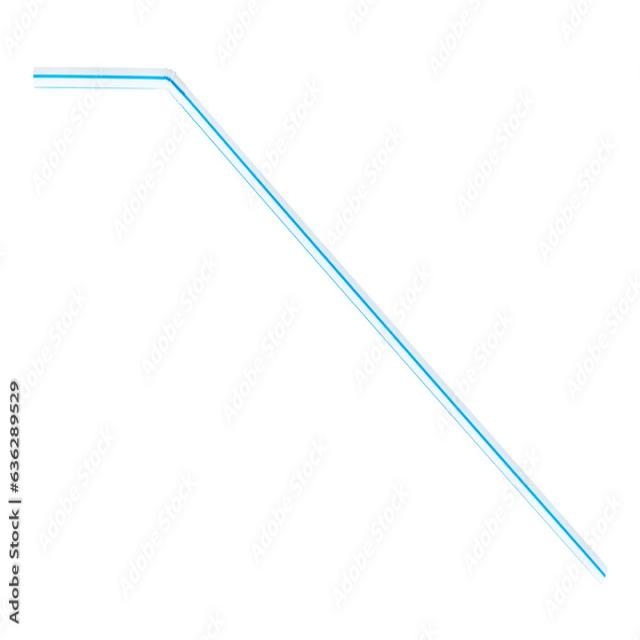plastic: (24, 32, 611, 624)
